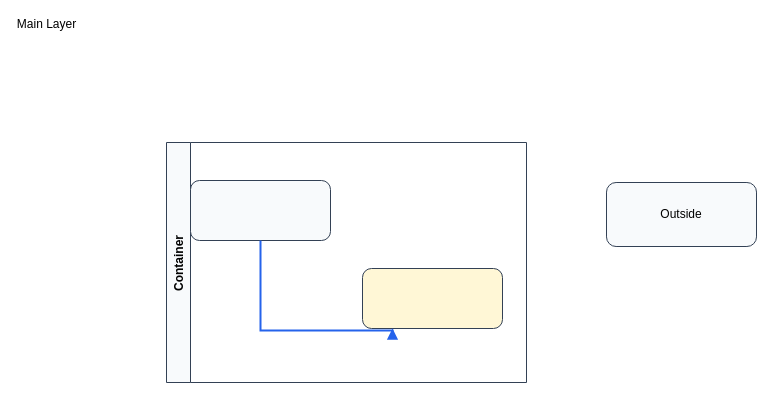
Image size: 774x400. Some labels were removed from this diagram. Here are the shapes that lost their labels. From the top down, the centre of each, then its label:
At (x=260, y=210): "Inside 1".
At (x=432, y=298): "Inside 2".
